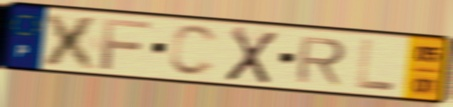C: (166, 23, 221, 79)
F: (98, 16, 154, 72)
L: (354, 37, 398, 93)
R: (293, 35, 349, 87)
X: (39, 10, 105, 72), (222, 24, 281, 87)
